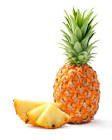Pineapple: (53, 5, 99, 125)
